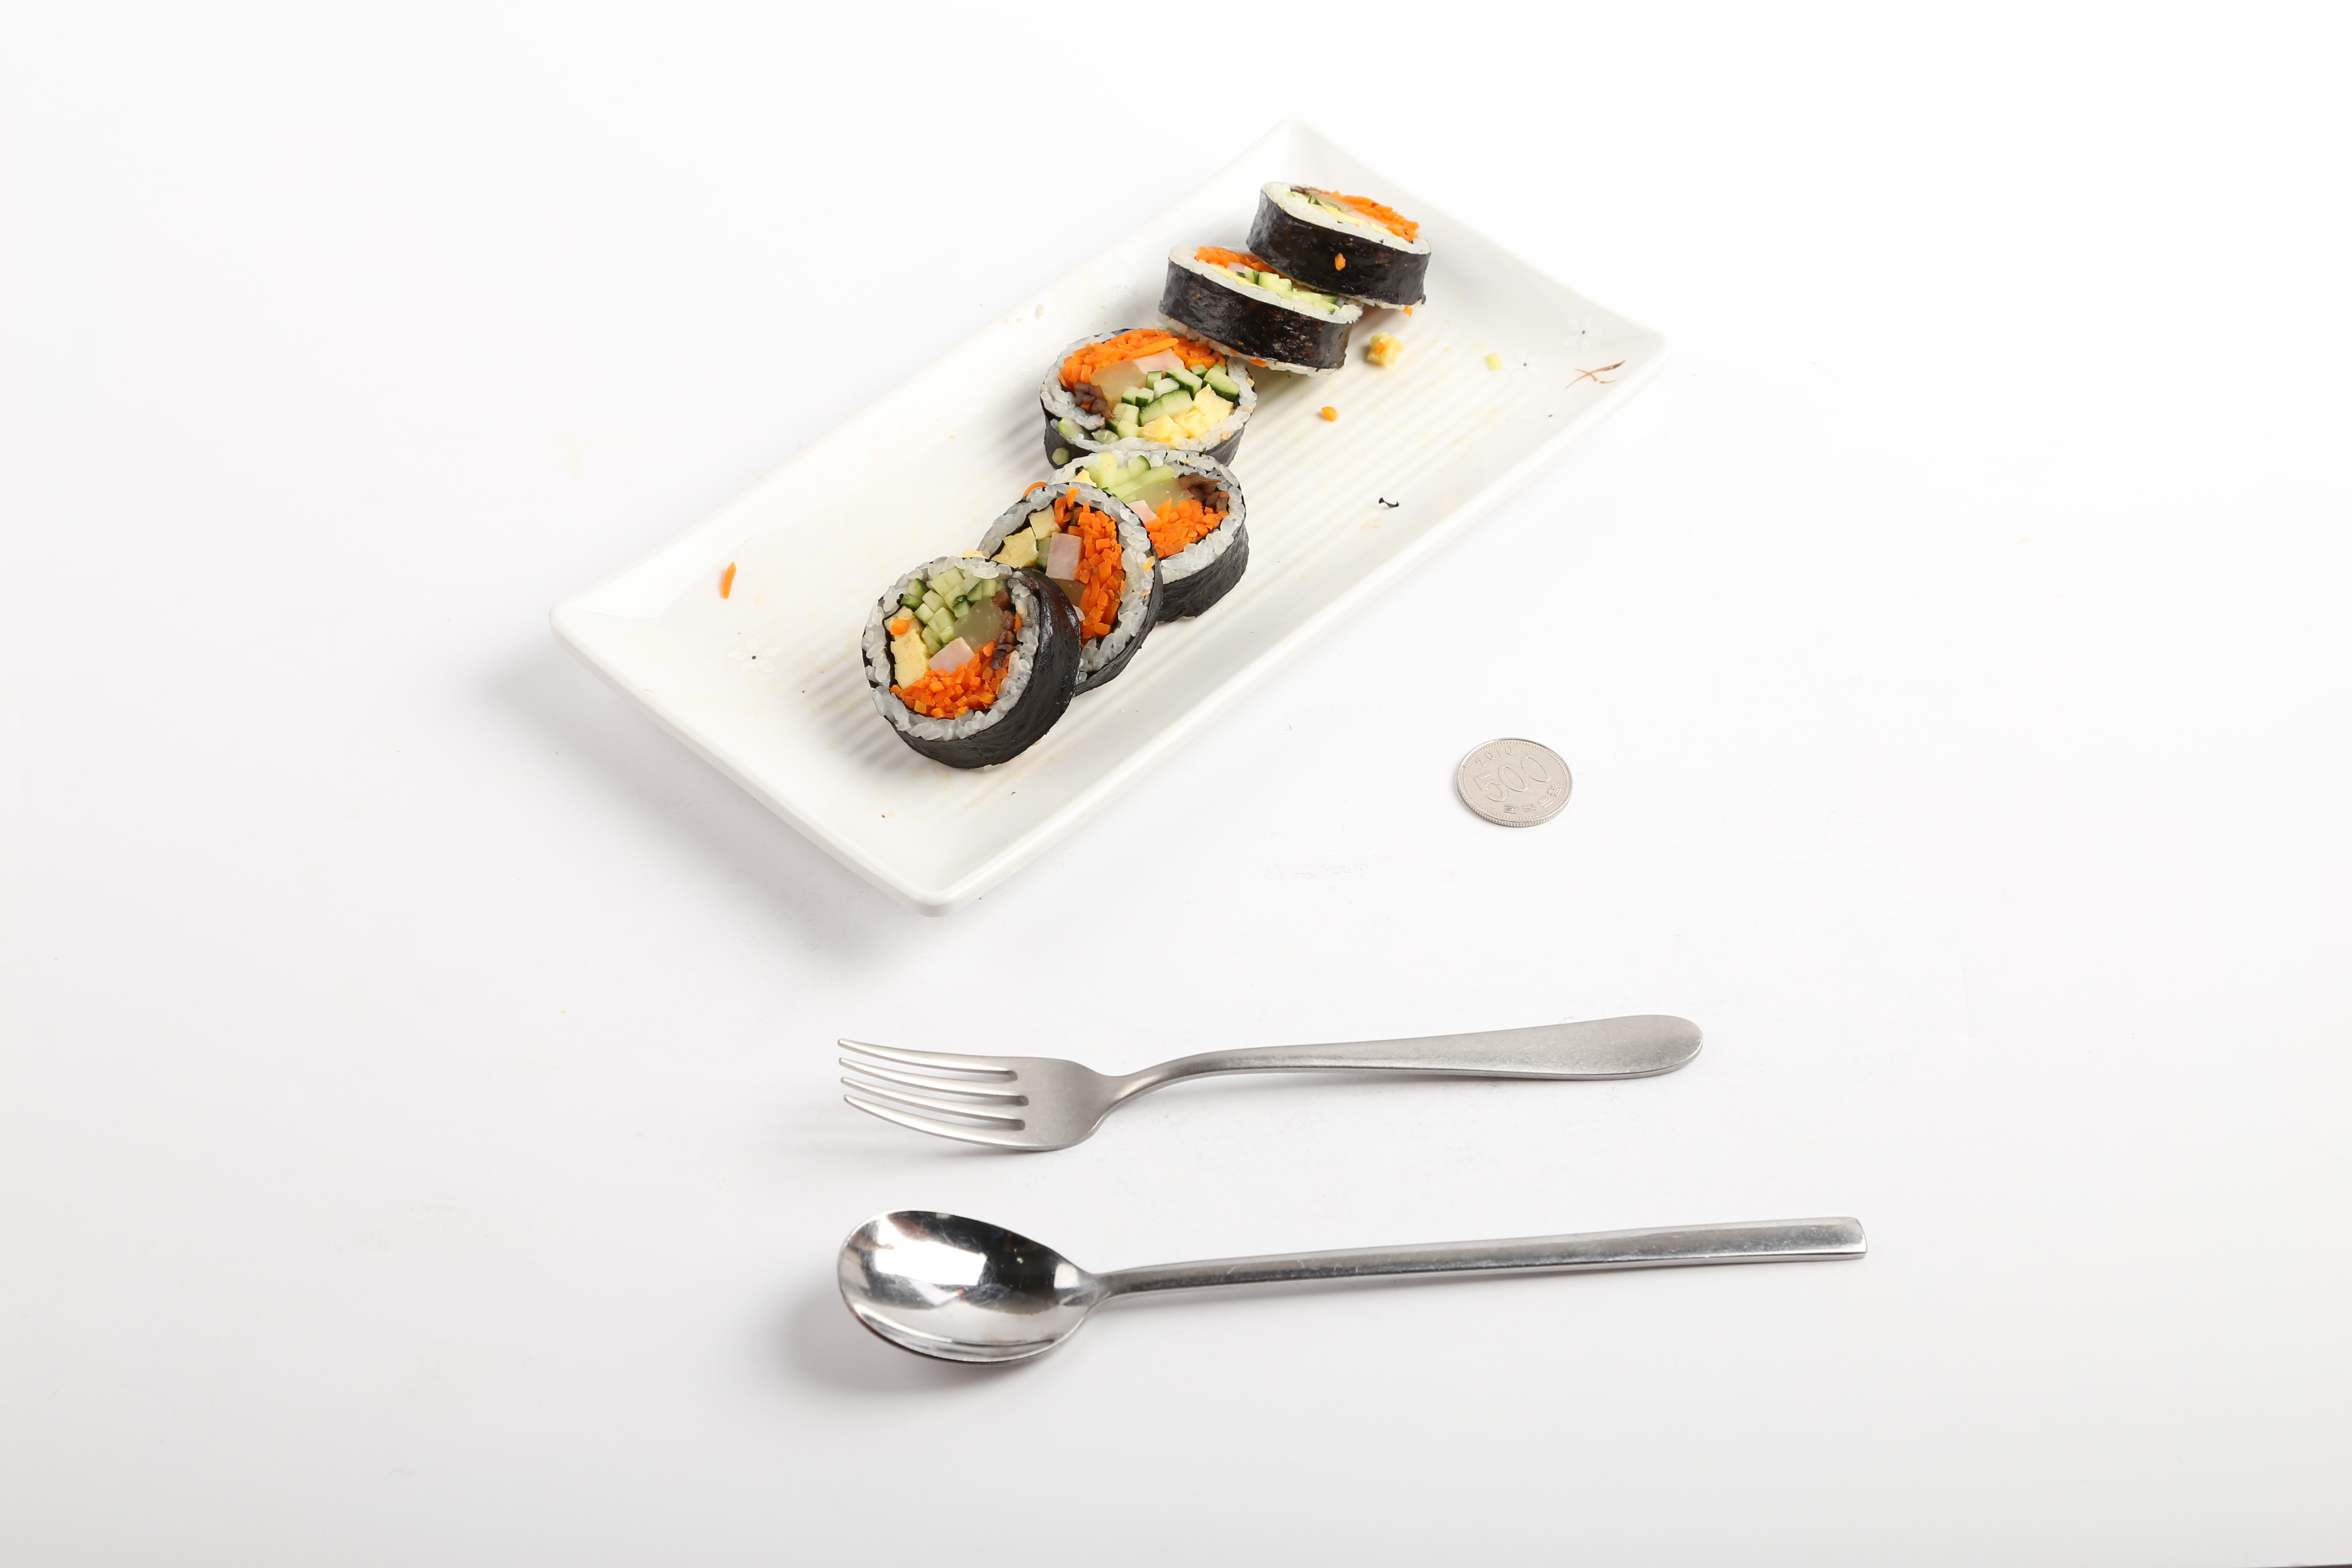dish: (548, 107, 1675, 919)
ref_coin: (1447, 724, 1577, 838)
ref_fork: (836, 1010, 1202, 1157)
ref_spoon: (833, 1200, 1195, 1374)
김밥: (856, 182, 1430, 779)
